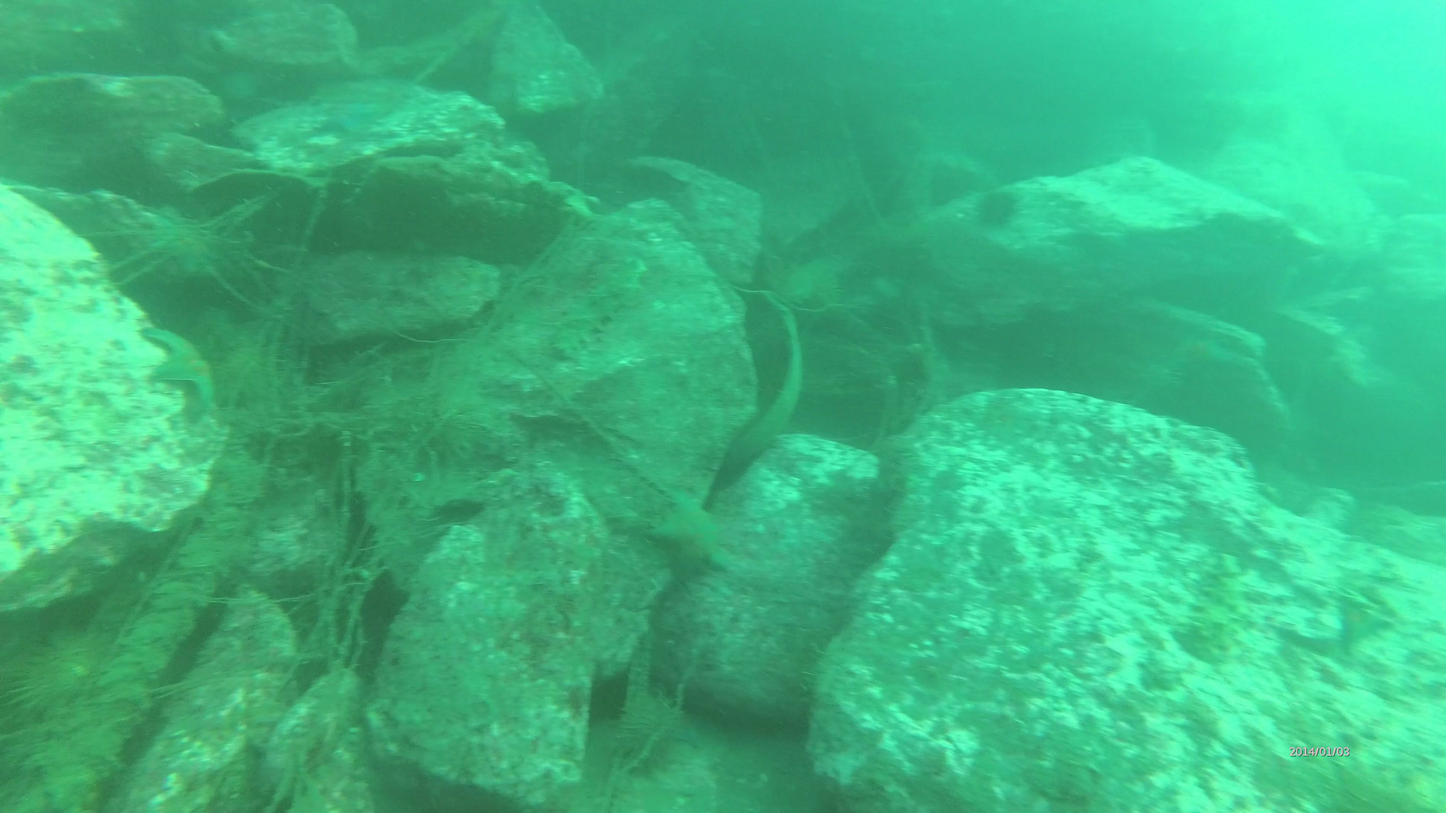echinus: (551, 261, 654, 357), (1187, 548, 1246, 665)
holothurian: (642, 489, 729, 583), (132, 321, 223, 408)
starfish: (4, 630, 113, 722), (617, 688, 686, 768), (972, 190, 1018, 229)
